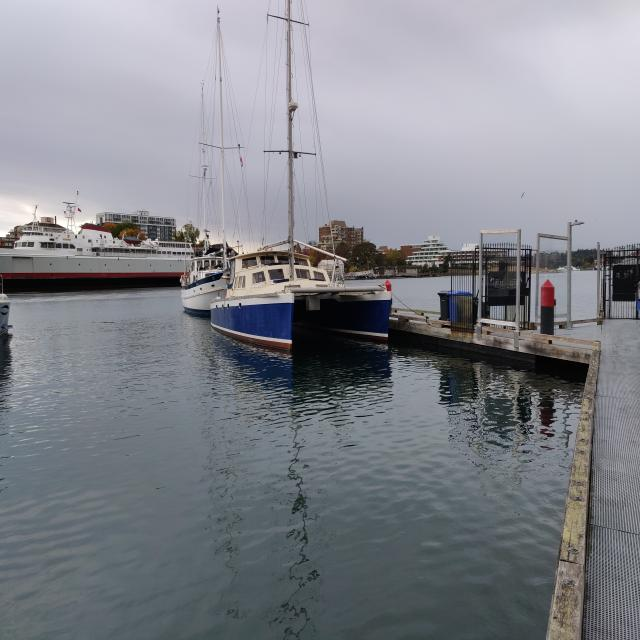boat: (208, 0, 392, 355), (180, 4, 258, 315), (0, 191, 197, 294)
